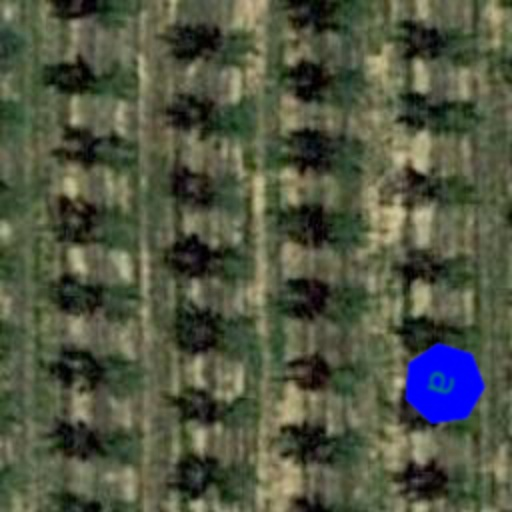heptagon: (390, 330, 498, 438)
